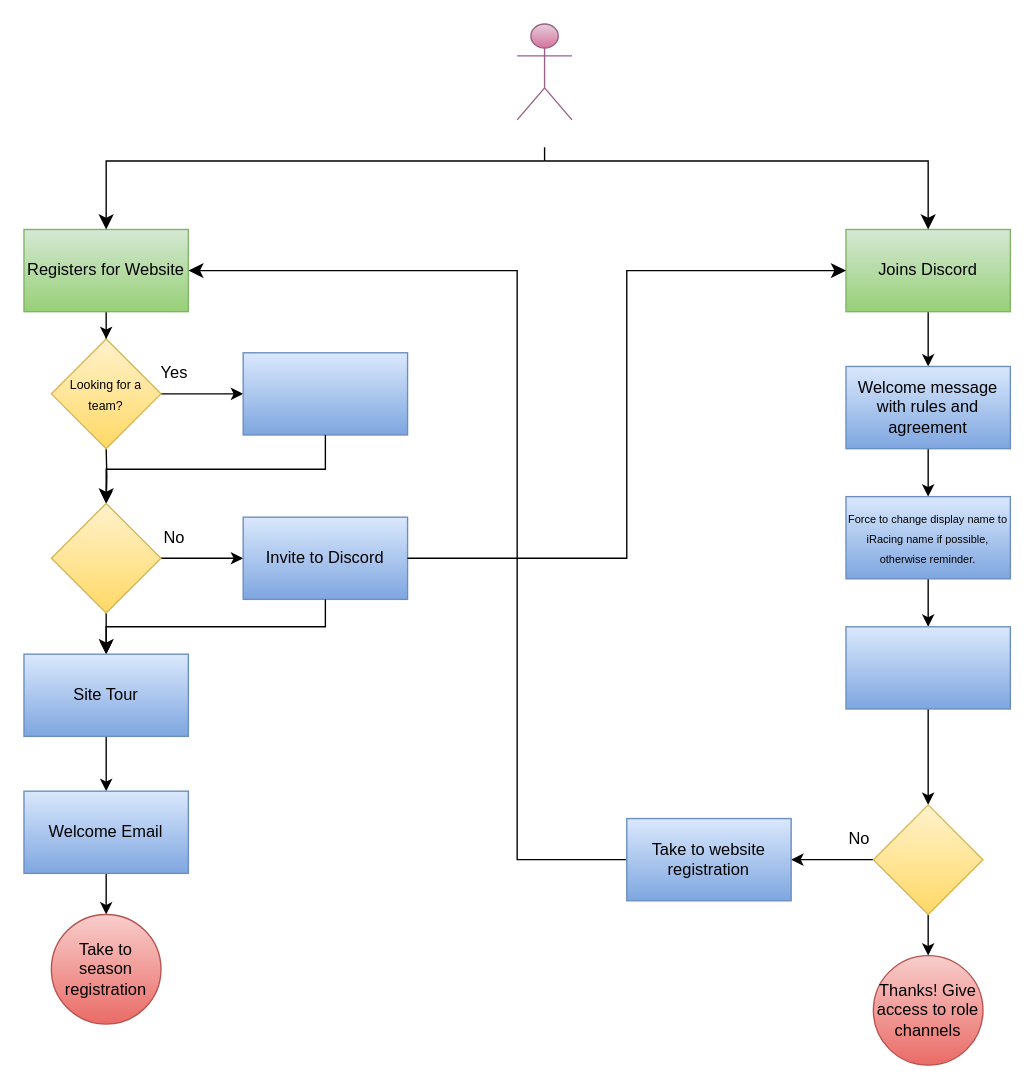
The diagram is 1034 pixels wide and 1089 high, and some of its shapes have lost their labels. Each missing label, with the centre of its shape:
Actor: point 544,71
Add to new member pool, and notify teams that are "ambassadors": point 325,393
Already registered on the website?: point 927,859
Discord Member?: point 105,557
Role selection. Main series, MEC, Region, other things?: point 927,667
